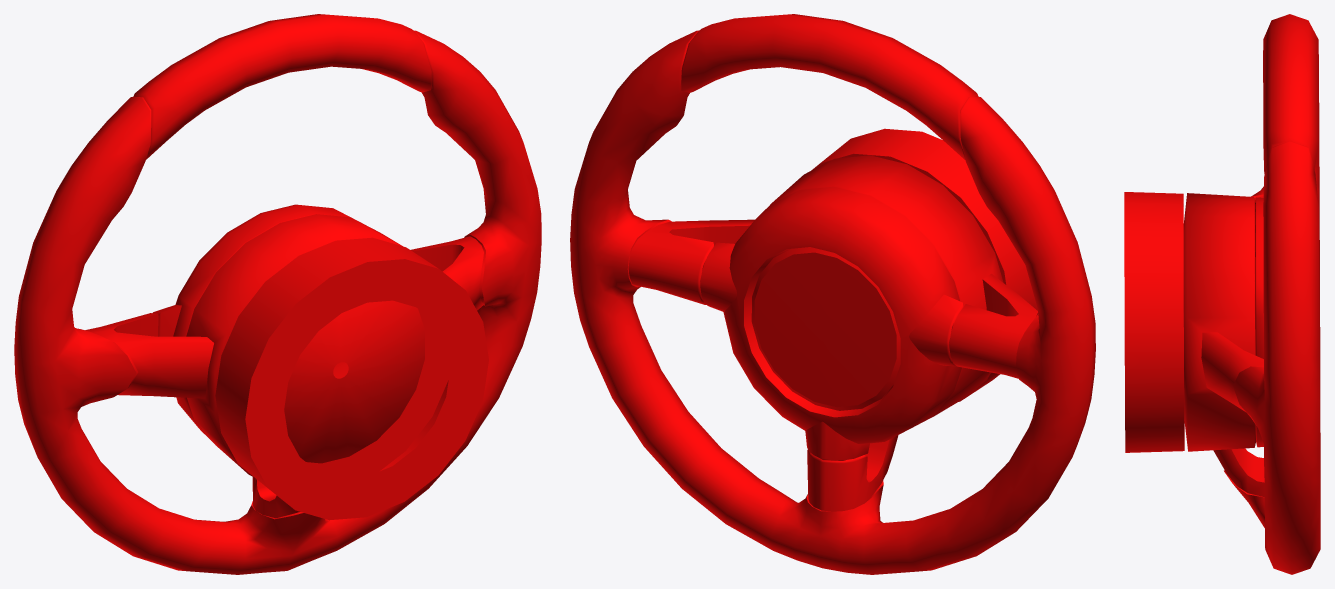
File: Veyron_Steeringwheel_Trim.fbx
3 renders of one model, left to right at view 1: azimuth 30°, elevation 25°; view 2: azimuth 150°, elevation 25°; view 3: azimuth 270°, elevation 25°, orthographic. The views are drawn at different scales.
Parts seen in each view (by area): view 1: Veyron_SteeringWheel_Trim; view 2: Veyron_SteeringWheel_Trim; view 3: Veyron_SteeringWheel_Trim.
Boxes of the visible parts, x1,y1,x2,y2 form: Veyron_SteeringWheel_Trim: (14,14,541,574); Veyron_SteeringWheel_Trim: (570,14,1095,574); Veyron_SteeringWheel_Trim: (1124,14,1320,574).
Bounding box in the file's own units: 35.64 × 35.8 × 12.52.
